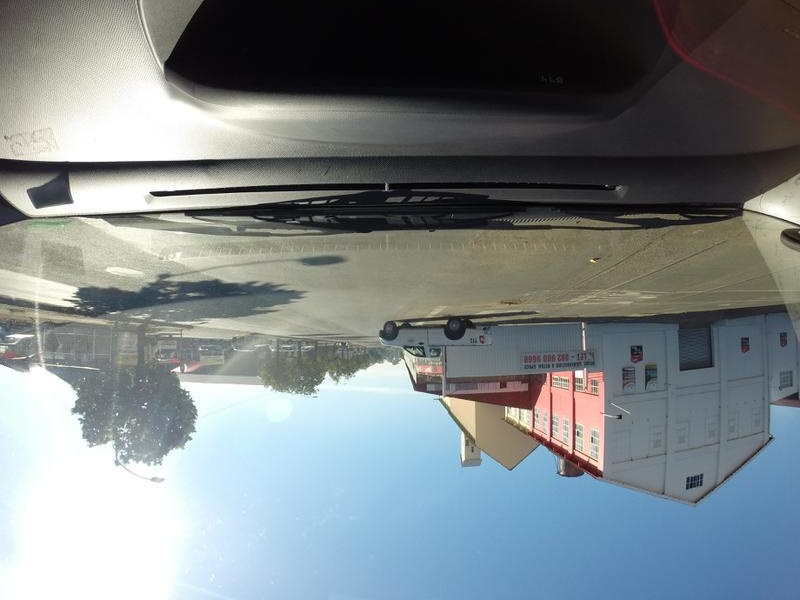pothole: (495, 297, 522, 304)
